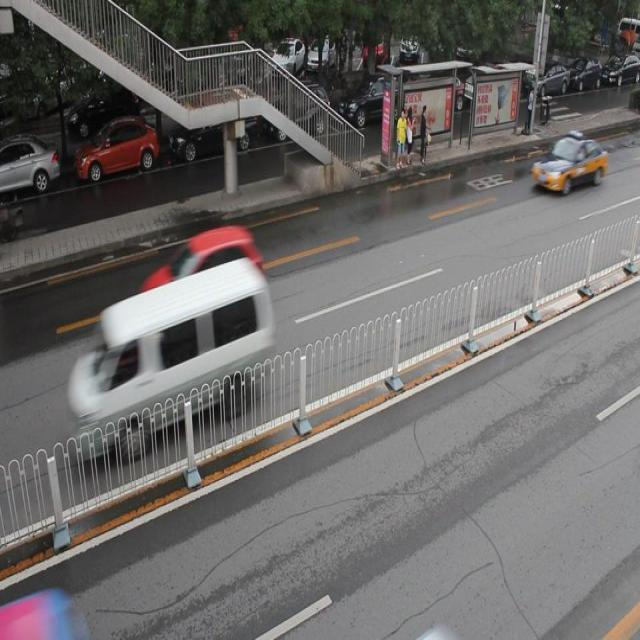car: (142, 228, 266, 318), (75, 118, 158, 182), (167, 102, 256, 160), (530, 128, 606, 192), (337, 71, 410, 128), (264, 85, 330, 139), (1, 136, 58, 197)
truck: (64, 256, 271, 462)
